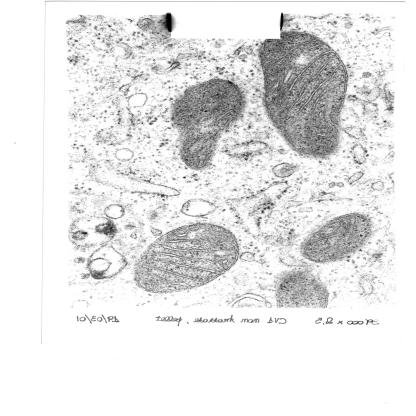mitochondria: (262, 33, 352, 159), (132, 222, 242, 294), (170, 80, 245, 169), (299, 211, 373, 266), (275, 271, 331, 307)
